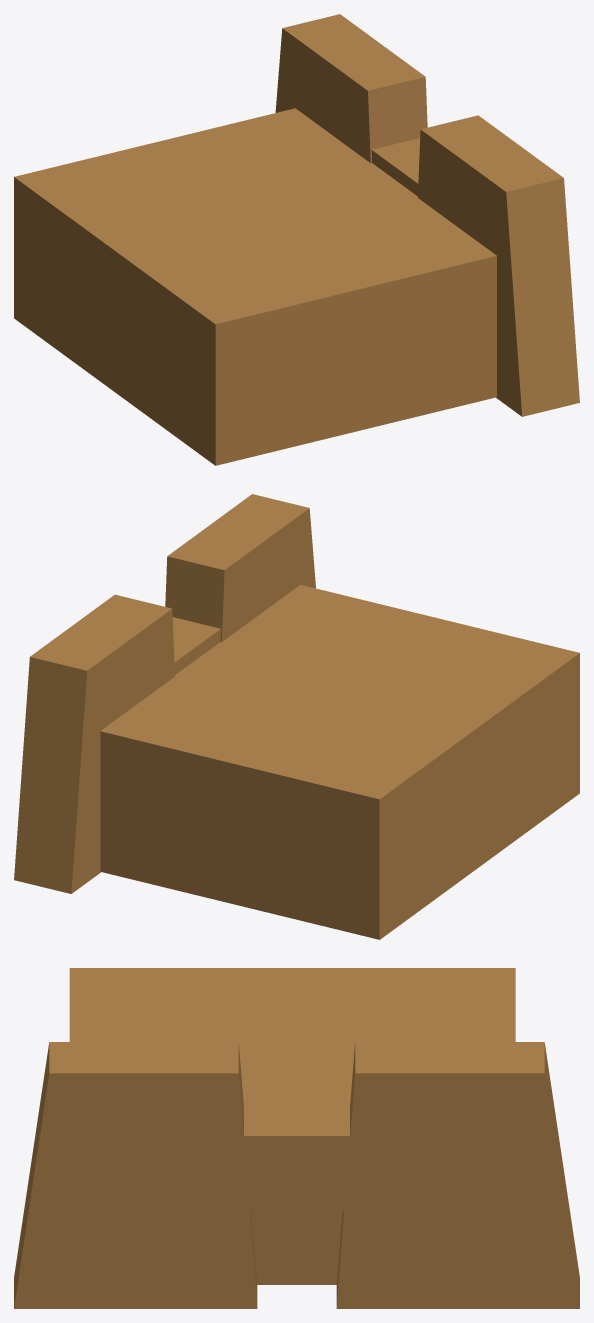
The model's file is Temple.fbx.
3 renders of one model, top to bottom at view 1: azimuth 30°, elevation 25°; view 2: azimuth 150°, elevation 25°; view 3: azimuth 270°, elevation 25°, orthographic. The views are drawn at different scales.
Parts seen in each view (by area): view 1: Cube.002; view 2: Cube.002; view 3: Cube.002.
Part boxes in pixels (box(x1,y1,x2,y2)): Cube.002: box(14, 14, 579, 465); Cube.002: box(14, 494, 579, 939); Cube.002: box(14, 968, 579, 1308).
Size of the model in its own units: 185 by 111 by 242.
